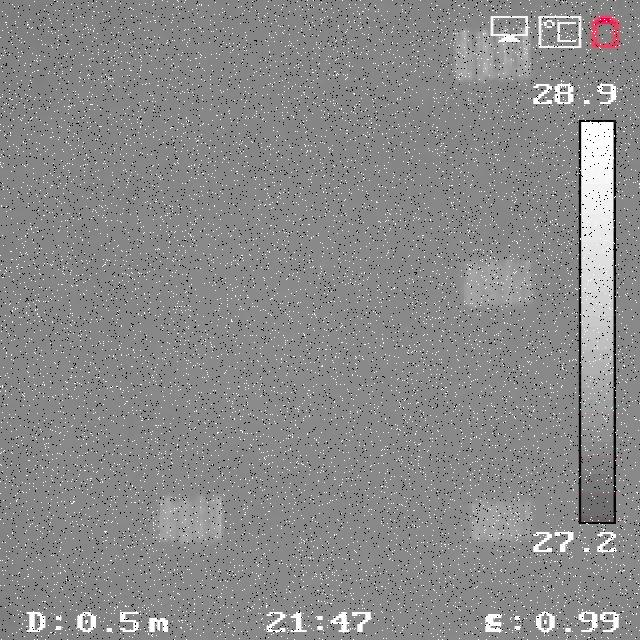threshold 4-bar target: (454, 28, 534, 84), (160, 492, 232, 543), (465, 256, 535, 306), (467, 502, 540, 543)
